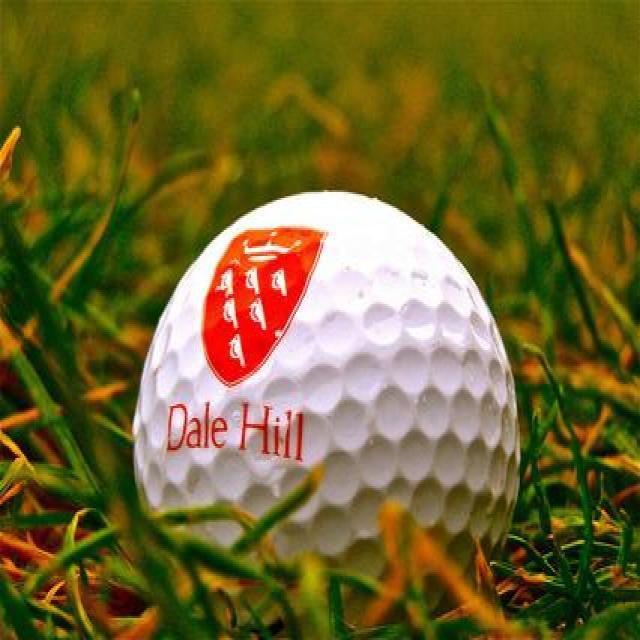golfball: (129, 192, 526, 596)
